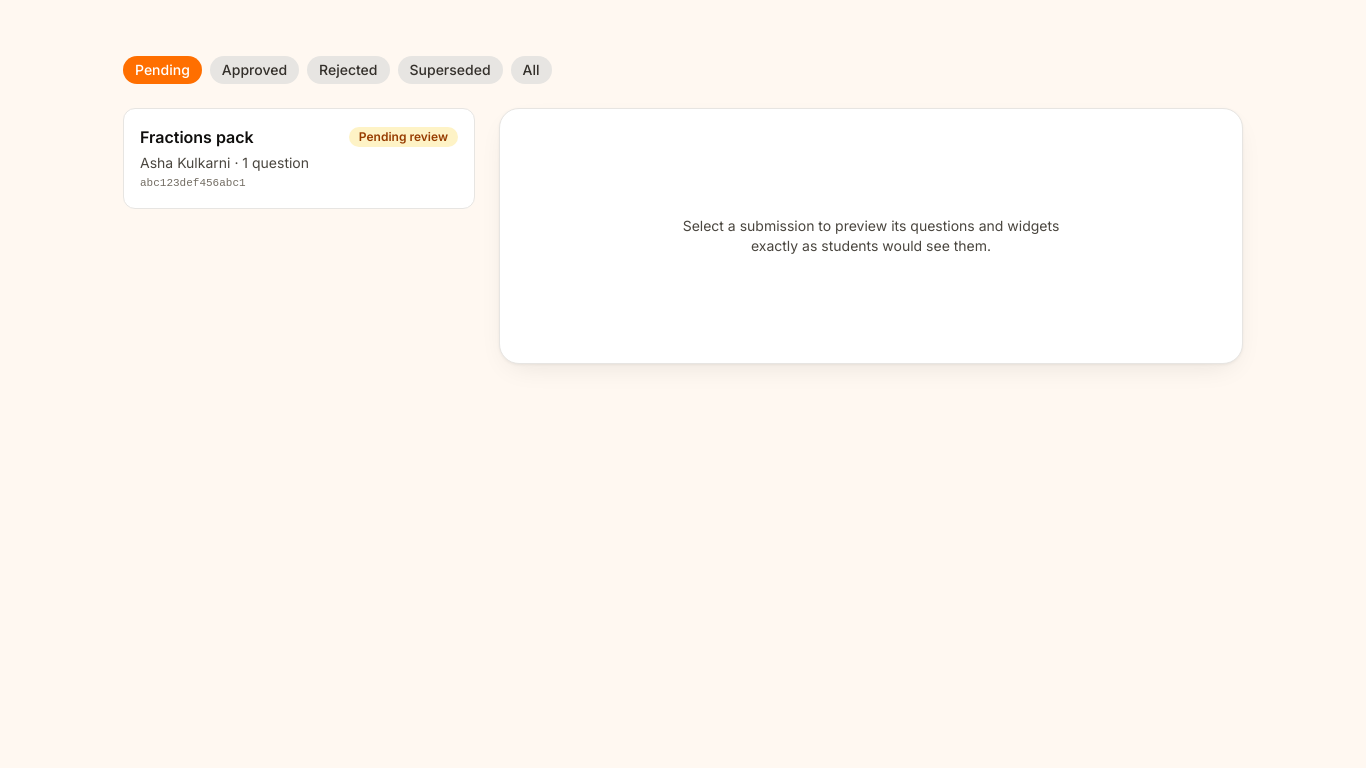
Test: <SubmissionsPage /> › an approved submission is read-only (no approve/reject buttons)
This screenshot has width=1366, height=768.
Click the text "Fractions pack".
click(197, 137)  # box [140, 125, 254, 149]
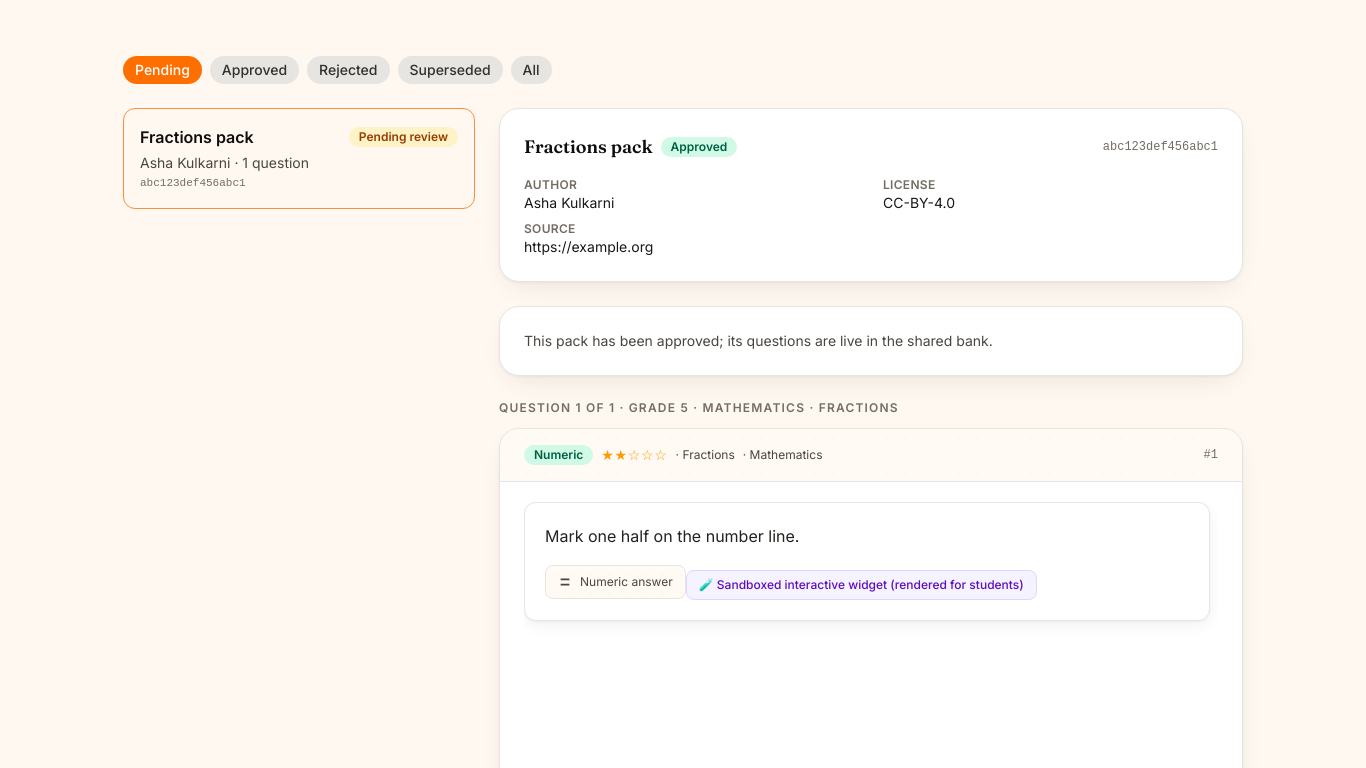
Check: the text "live in the shared bank" is shown, box [524, 332, 993, 349]
